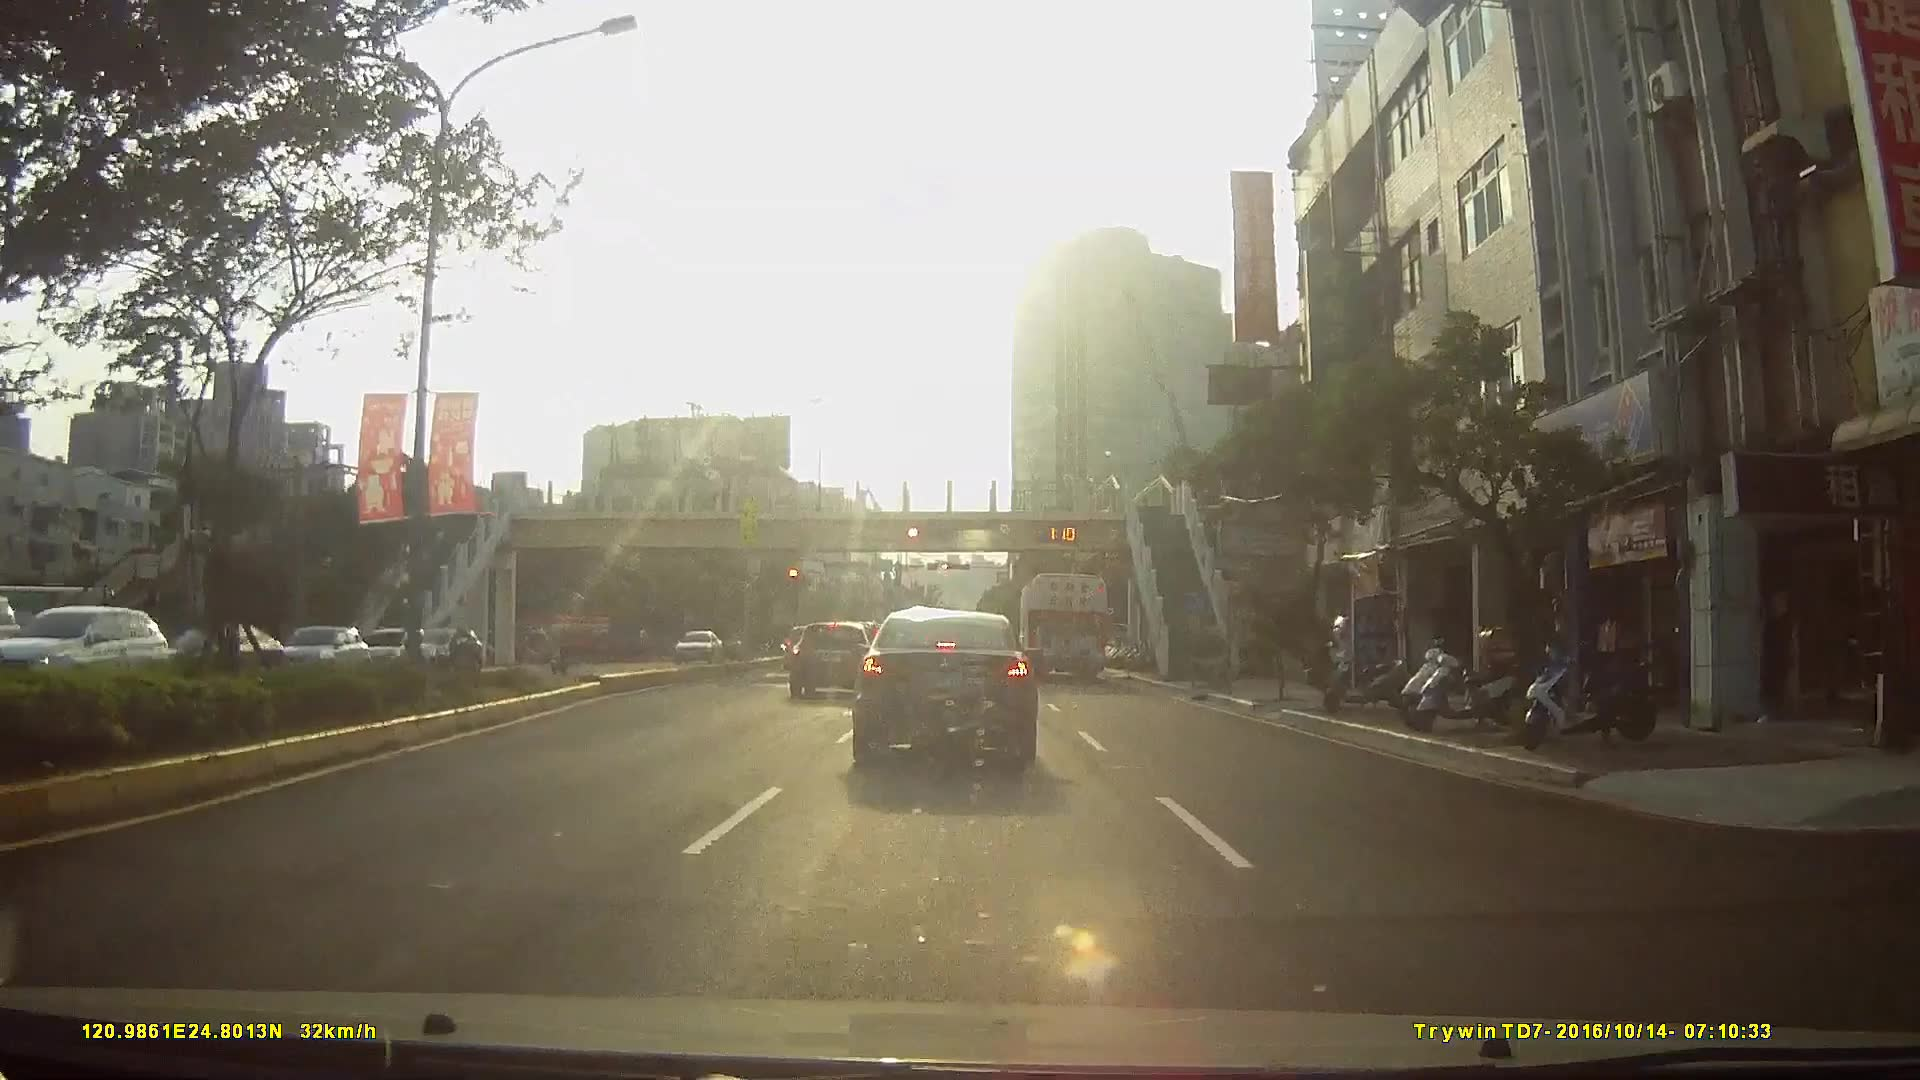rider: (546, 624, 576, 676)
vehicle: (850, 608, 1041, 768), (1017, 568, 1113, 681), (784, 617, 876, 699), (276, 624, 370, 675), (414, 623, 482, 669), (670, 627, 723, 665)
